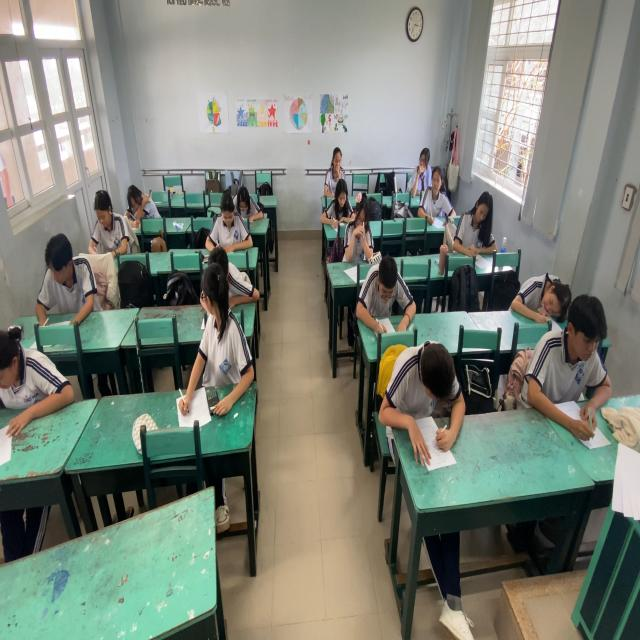cheating: (192, 268, 252, 399)
not_cheating: (532, 295, 616, 409), (0, 318, 69, 436), (377, 344, 466, 418), (38, 233, 90, 323), (363, 253, 408, 326), (513, 261, 573, 315), (82, 185, 126, 253), (454, 188, 499, 243), (120, 184, 164, 229), (348, 194, 378, 253), (215, 191, 246, 246), (231, 178, 260, 229), (328, 181, 359, 222), (427, 174, 451, 215), (416, 142, 436, 188), (326, 146, 350, 181)
